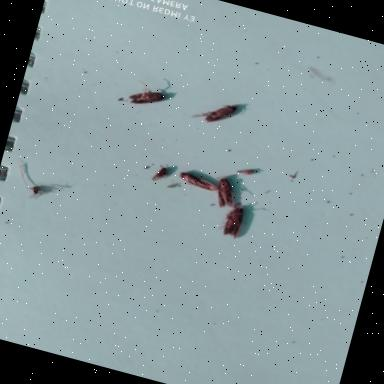pbw: (198, 96, 242, 134), (124, 82, 169, 117), (214, 202, 249, 242), (173, 168, 220, 196), (210, 174, 238, 211)
